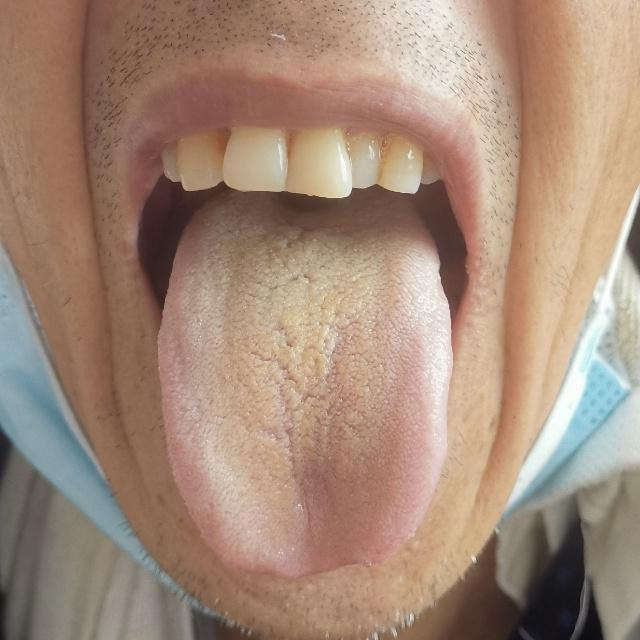huangtaishe: (157, 208, 453, 583)
